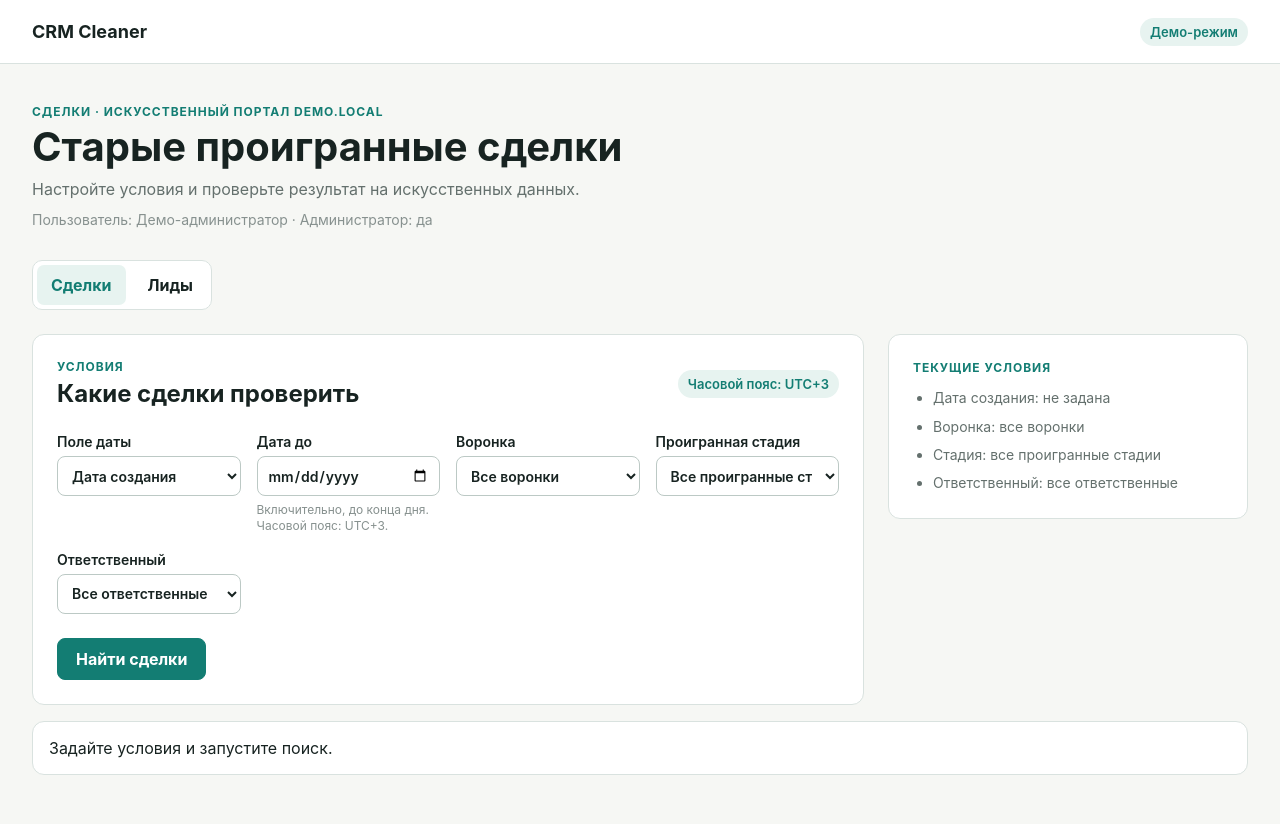
it: App › switches safely from a ready deal preview to lead filters
Step 1. Type "2026-01-31" into the date field labelled "Дата до" → (348, 476), box [256, 456, 440, 496]
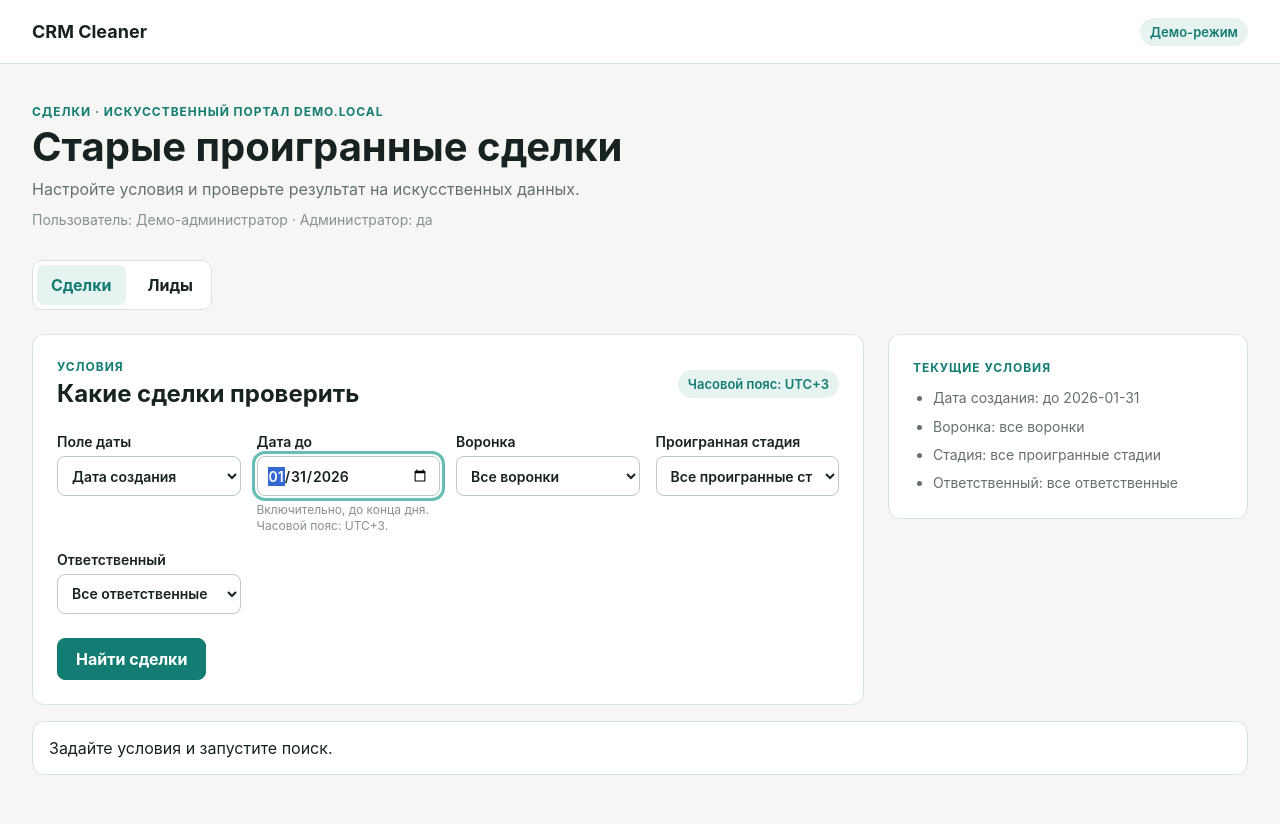
Step 2. Click the button "Найти сделки" → click(132, 659), box [57, 638, 206, 680]
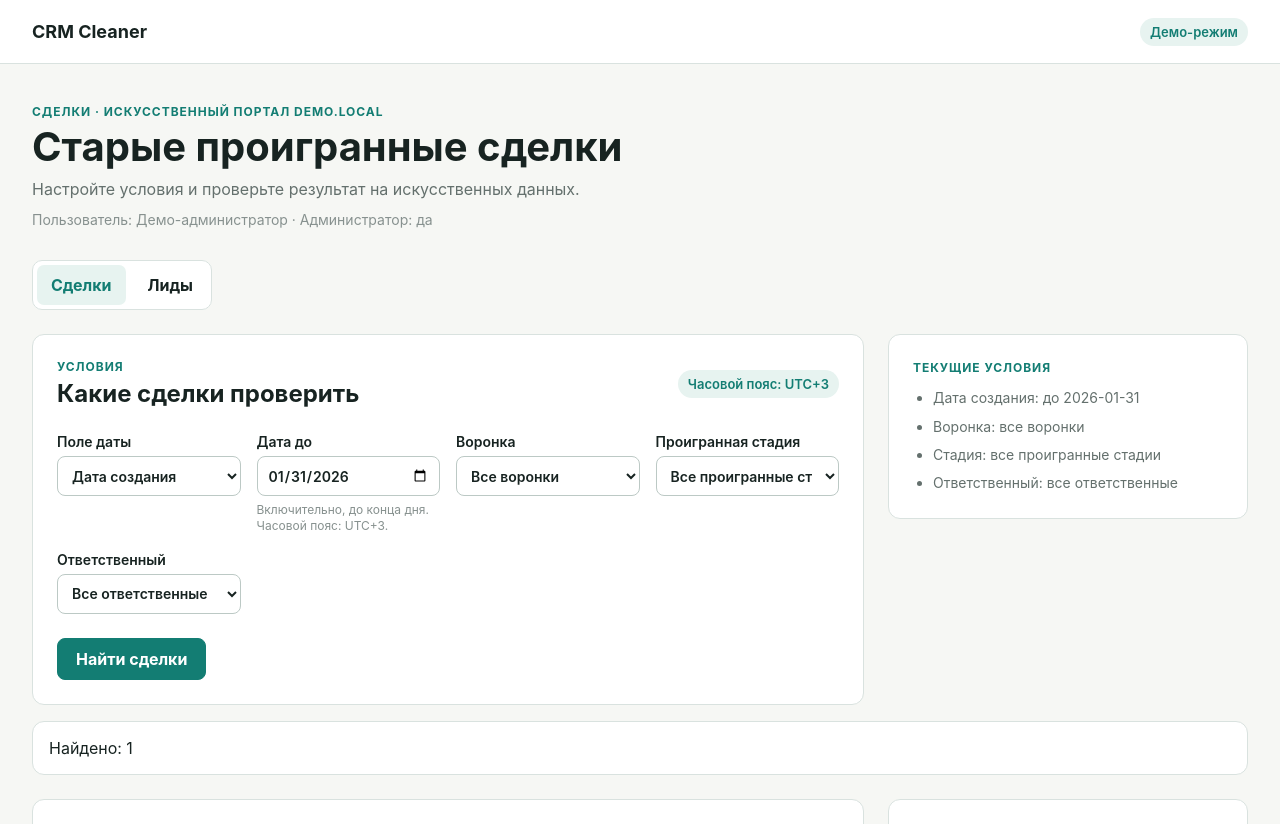
Step 3. Click the radio button labelled "Лиды" → click(170, 285), box [148, 275, 193, 295]
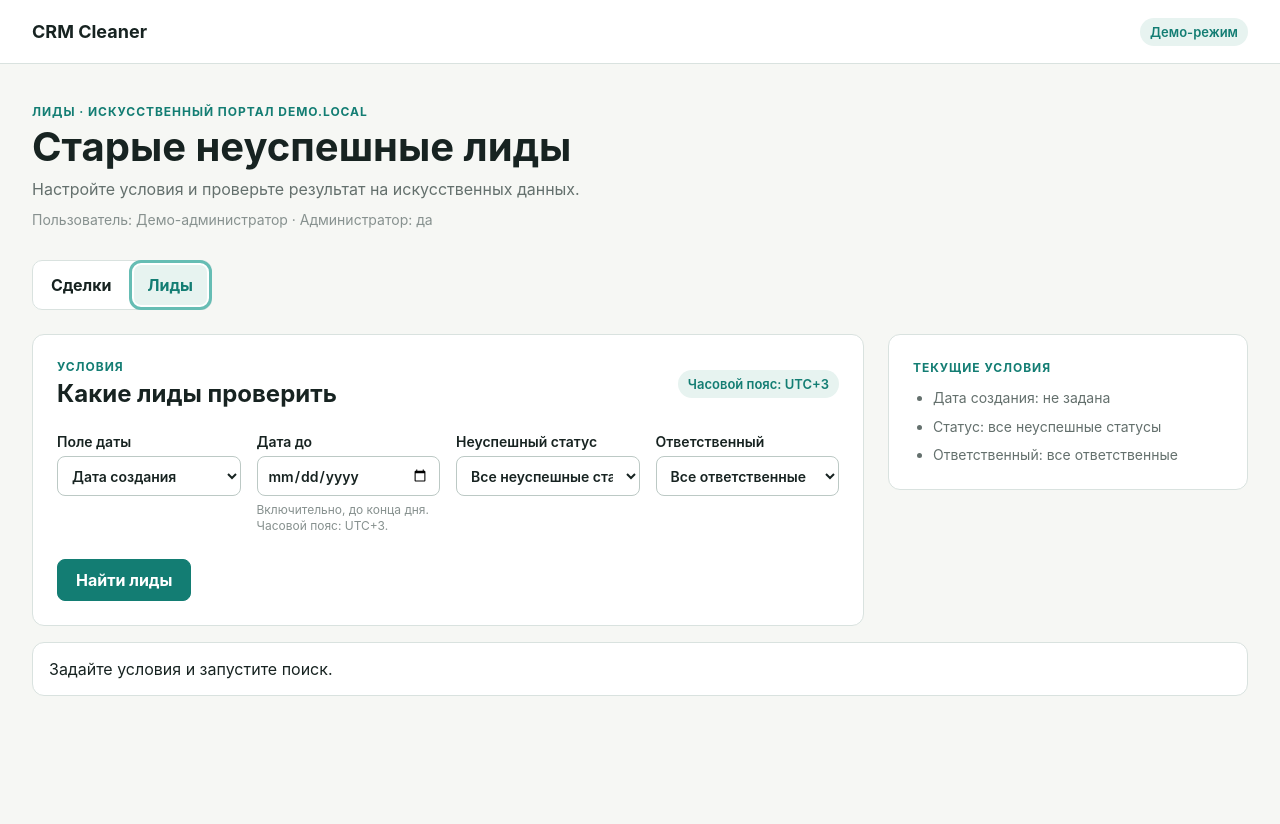
Expected: the heading "Старые неуспешные лиды" is shown, [32, 122, 571, 171]
Expected: the text labelled "Воронка" is gone
Expected: the dropdown labelled "Неуспешный статус" is shown, [456, 456, 640, 496]
